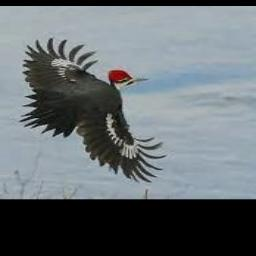Woodpecker: (19, 36, 168, 182)
